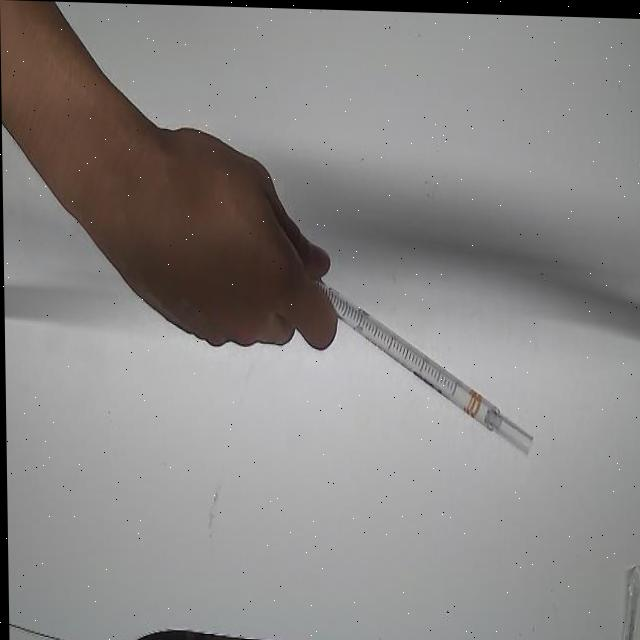Serelogical Pipet 10 mL: (270, 243, 543, 468)
